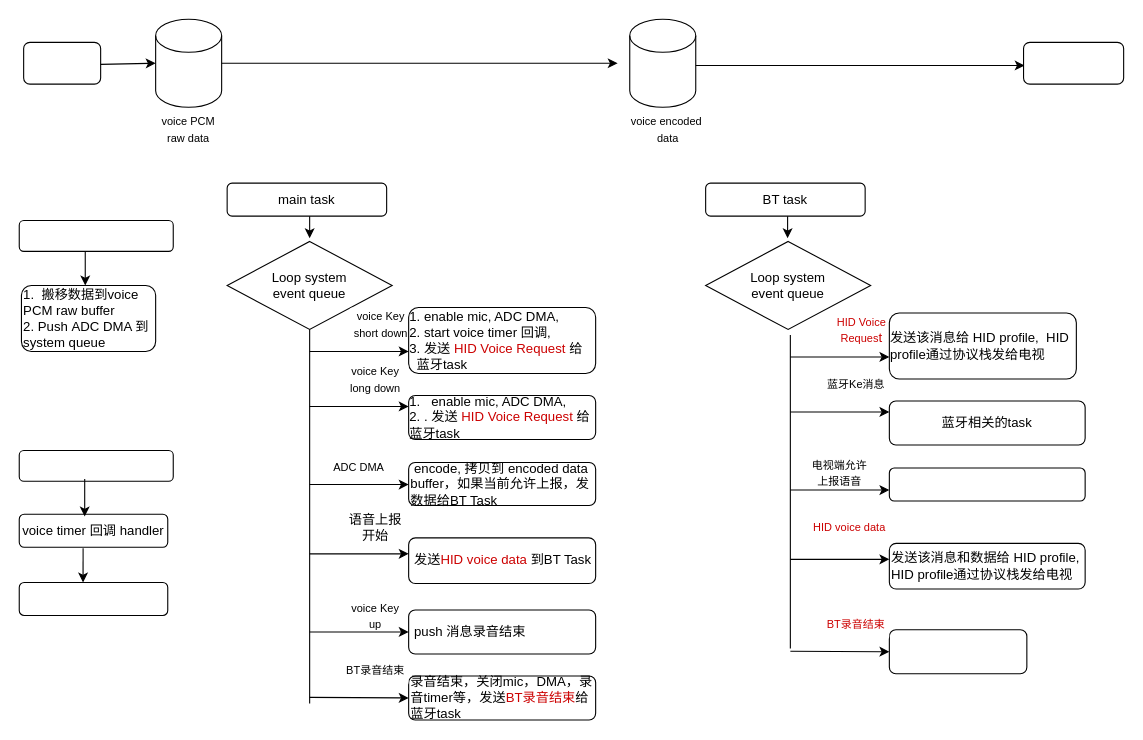
Image size: 1143x740. Some labels were removed from this diagram. The centre of each missing label's shape, as x and y in pixels:
DMA 中断: point 95,235
Mic: point 62,62
Push BT 录音结束 到system queue: point 93,598
Timer 中断: point 95,465
发送语音上报允许给main task: point 986,484
录音结束，关闭mic，DMA，录音timer等: point 957,651
电视: point 1073,62
